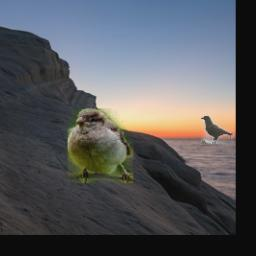Crow: (201, 116, 234, 146)
Sparrow: (68, 108, 133, 183)
